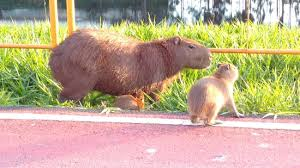capivara: (49, 29, 211, 115), (188, 62, 241, 128)
